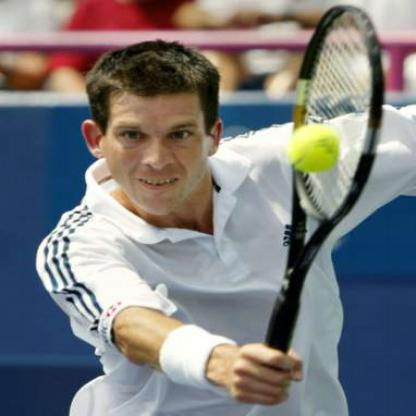face: (102, 57, 212, 218)
